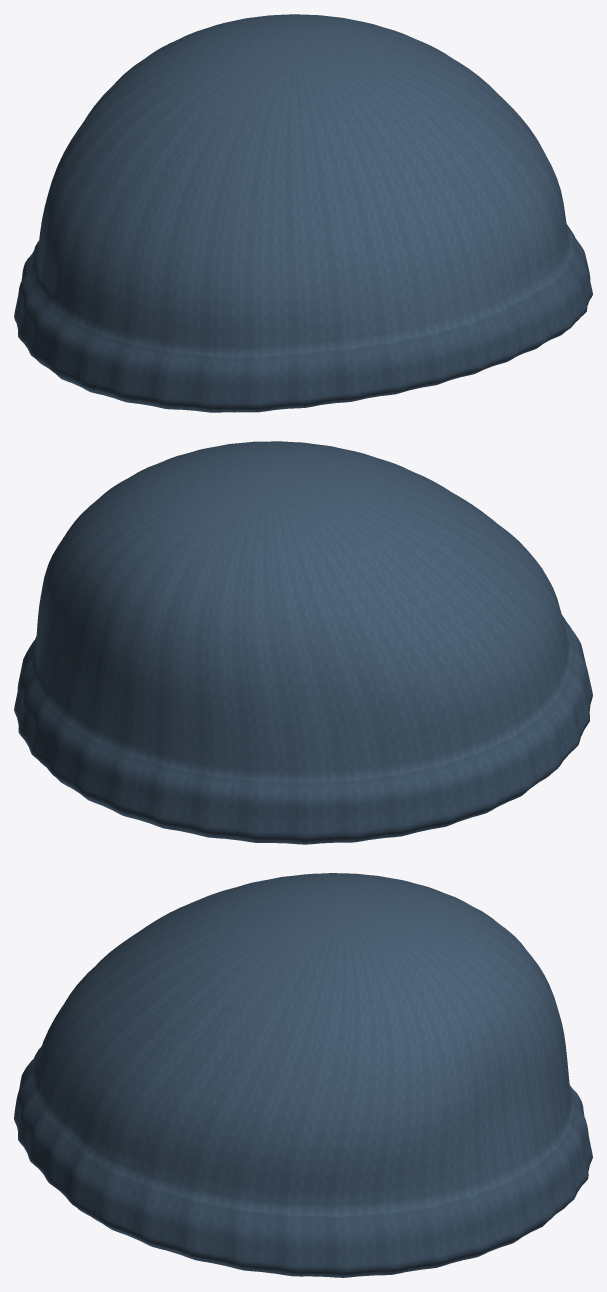
File: beanie-feminine-space-buns.glb
The picture shows the model from 3 angles, top to bottom: view 1: azimuth 30°, elevation 25°; view 2: azimuth 150°, elevation 25°; view 3: azimuth 270°, elevation 25°; orthographic projection. The views are drawn at different scales.
Visible parts, largest first — view 1: Beanie / fitted knit; view 2: Beanie / fitted knit; view 3: Beanie / fitted knit.
Boxes of the visible parts, box(x1,y1,x2,y2) form: Beanie / fitted knit: box(14, 14, 592, 412); Beanie / fitted knit: box(14, 441, 592, 844); Beanie / fitted knit: box(14, 873, 592, 1277).
Bounding box in the file's own units: 0.812 × 0.4059 × 0.7893.
Materials: 2 (2 with a texture image).
